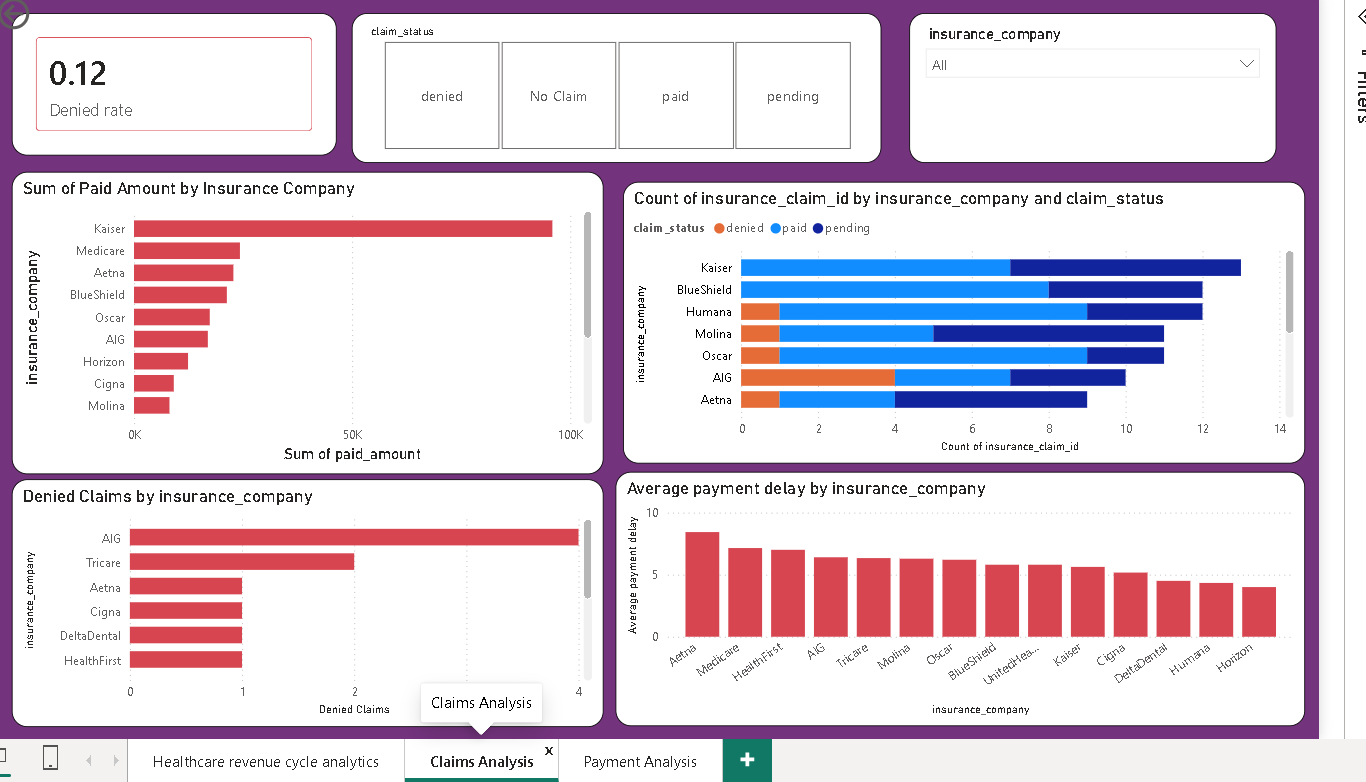

This screenshot's page, from the dashboard's own definition file:
{"tool":"powerbi","page":{"name":"Claims Analysis","canvas":[1280,720],"ordinal":1},"visuals":[{"type":"barChart","fields":{"Category":["Data.insurance_company"],"Y":["Sum(Data.paid_amount)"]},"box":[0,172.9,607.9,290.9],"z":0},{"type":"barChart","fields":{"Category":["Data.insurance_company"],"Series":["Data.claim_status"],"Y":["CountNonNull(Data.insurance_claim_id)"]},"box":[607.9,172.9,672.4,296.4],"z":1000},{"type":"cardVisual","fields":{"Data":["Data.Denied rate"]},"box":[0,0,341.7,163.3],"z":2000},{"type":"barChart","fields":{"Category":["Data.insurance_company"],"Y":["Data.Denied Claims"]},"box":[0,469.3,607.9,251.1],"z":3000},{"type":"columnChart","fields":{"Category":["Data.insurance_company"],"Y":["Data.Average payment delay"]},"box":[607.9,469.3,672.4,251.1],"z":4000},{"type":"slicer","fields":{"Values":["Data.insurance_company"]},"box":[779.4,6.9,271.7,150.9],"z":5000},{"type":"slicer","fields":{"Values":["Data.claim_status"]},"box":[1051.1,6.9,229.2,156.4],"z":6000},{"type":"actionButton","box":[0,0,100,40],"z":7000}]}

Visuals, with their boxes on the page's 1280x720 design canvas (x1, y1, x2, y2). These are canvas units, not pixel positions in the 1366x782 screenshot, which may show the page scaled, cropped or inside an application window:
barChart - Data.insurance_company x Sum(Data.paid_amount): BBox(0, 173, 608, 464)
barChart - Data.insurance_company x Data.claim_status: BBox(608, 173, 1280, 469)
cardVisual - Data.Denied rate: BBox(0, 0, 342, 163)
barChart - Data.insurance_company x Data.Denied Claims: BBox(0, 469, 608, 720)
columnChart - Data.insurance_company x Data.Average payment delay: BBox(608, 469, 1280, 720)
slicer - Data.insurance_company: BBox(779, 7, 1051, 158)
slicer - Data.claim_status: BBox(1051, 7, 1280, 163)
actionButton: BBox(0, 0, 100, 40)
